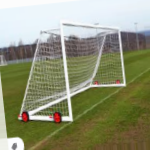goals: (18, 22, 127, 121)
